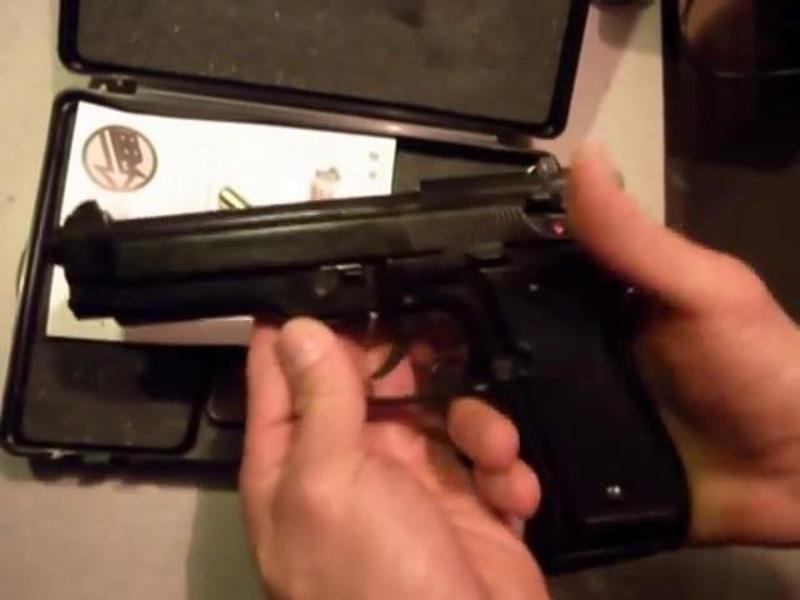Pistola: (52, 109, 683, 550)
